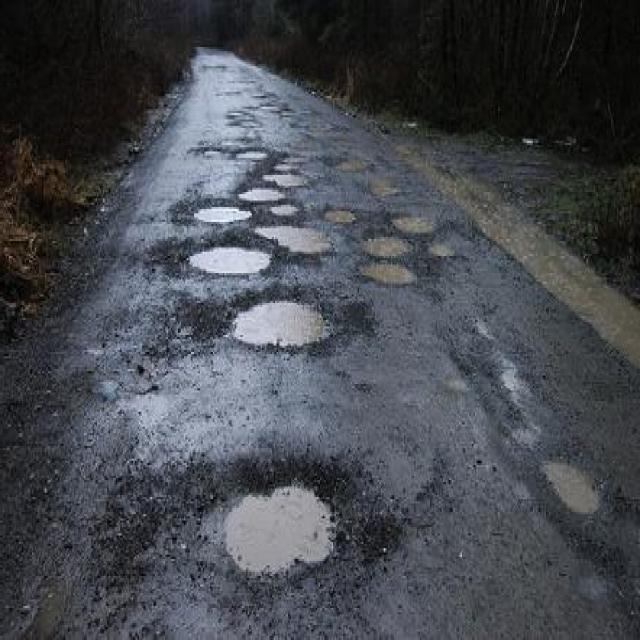Pothole: (210, 460, 352, 578), (224, 291, 340, 351), (185, 238, 278, 279), (541, 455, 605, 513), (255, 221, 336, 258), (356, 259, 419, 287), (192, 200, 257, 225), (363, 236, 415, 260), (391, 212, 442, 234), (262, 170, 313, 187), (242, 185, 290, 202), (236, 146, 271, 161), (326, 206, 359, 221)
